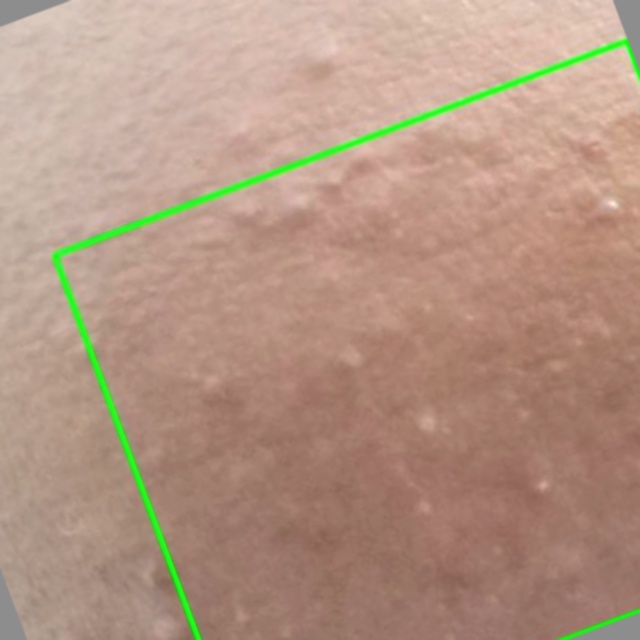Eczema: (54, 40, 639, 639)
